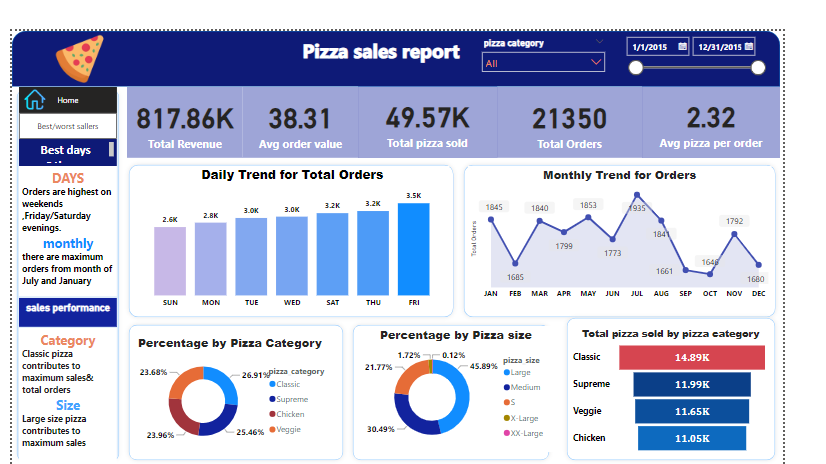

This screenshot's page, from the dashboard's own definition file:
{"tool":"powerbi","page":{"name":"Home","canvas":[1285,724],"ordinal":0},"visuals":[{"type":"card","fields":{"Values":["#measures.Avg order value"]},"box":[385,93.3,191.7,118.3],"z":0},{"type":"card","fields":{"Values":["#measures.Avg pizza per order"]},"box":[1050,91.4,230,120],"z":1000},{"type":"card","fields":{"Values":["#measures.Total Orders"]},"box":[808.3,93.3,241.7,118.3],"z":2000},{"type":"card","fields":{"Values":["#measures.Total pizzas sold"]},"box":[576.7,91.7,231.7,120],"z":3000},{"type":"card","fields":{"Values":["#measures.Total Revenue"]},"box":[191.7,93.3,193.3,118.3],"z":4000},{"type":"shape","box":[0,0,1280,92.5],"z":5000},{"type":"textbox","box":[465.7,5.7,308.6,62.9],"z":6000},{"type":"image","box":[32.9,0,158.6,92.9],"z":7000},{"type":"shape","box":[187.1,214.3,557.1,270],"z":8000},{"type":"columnChart","title":"Daily Trend for Total Orders","fields":{"Category":["pizza sales.order day"],"Y":["#measures.Total Orders"]},"box":[204.3,224.3,524.3,245.7],"z":9000},{"type":"shape","box":[744.3,214.3,535.7,270],"z":10000},{"type":"areaChart","title":"Monthly Trend for Orders","fields":{"Y":["#measures.Total Orders"],"Category":["pizza sales.order Month"]},"box":[760,224.3,505.7,231.4],"z":11000},{"type":"shape","box":[186.7,481.7,373.3,241.7],"z":12000},{"type":"shape","box":[560,481.7,343.3,241.7],"z":13000},{"type":"shape","box":[916.7,470,363.3,253.3],"z":14000},{"type":"donutChart","title":"Percentage by Pizza Category","fields":{"Category":["pizza sales.pizza_category"],"Y":["#measures.Total Revenue"]},"box":[205,505,336.7,196.7],"z":15000},{"type":"donutChart","title":"Percentage by Pizza size","fields":{"Y":["#measures.Total Revenue"],"Category":["pizza sales.pizza_size"]},"box":[576.7,491.7,326.7,210],"z":16000},{"type":"funnel","title":"Total pizza sold by pizza category","fields":{"Y":["#measures.Total pizza sold"],"Category":["pizza sales.pizza_category"]},"box":[930,491.7,335,216.7],"z":17000},{"type":"shape","box":[0,91.7,186.7,631.7],"z":18000},{"type":"textbox","box":[11.7,180,163.3,45],"z":19000},{"type":"textbox","box":[11.7,225,163.3,216.7],"z":19001},{"type":"textbox","box":[11.7,445,163.3,48.3],"z":19002},{"type":"textbox","box":[11.7,495,163.3,228.3],"z":19003},{"type":"slicer","fields":{"Values":["pizza sales.pizza_category"]},"box":[773.3,5,225,86.7],"z":19004},{"type":"slicer","fields":{"Values":["pizza sales.order_date"]},"box":[1011.7,0,253.3,91.7],"z":19005},{"type":"pageNavigator","box":[11.7,93.3,163.3,43.3],"z":19006},{"type":"pageNavigator","box":[11.7,136.7,163.3,43.3],"z":19007},{"type":"image","box":[11.7,91.7,53.3,45],"z":19008}]}

Visuals, with their boxes in screenshot pixels (x1, y1, x2, y2), scaled from the page's 1285x724 canvas onto the 826x464 screenshot:
card - #measures.Avg order value: crop(247, 60, 371, 136)
card - #measures.Avg pizza per order: crop(675, 59, 823, 135)
card - #measures.Total Orders: crop(520, 60, 675, 136)
card - #measures.Total pizzas sold: crop(371, 59, 520, 136)
card - #measures.Total Revenue: crop(123, 60, 247, 136)
shape: crop(0, 0, 823, 59)
textbox: crop(299, 4, 498, 44)
image: crop(21, 0, 123, 60)
shape: crop(120, 137, 478, 310)
"Daily Trend for Total Orders" columnChart: crop(131, 144, 468, 301)
shape: crop(478, 137, 823, 310)
"Monthly Trend for Orders" areaChart: crop(489, 144, 814, 292)
shape: crop(120, 309, 360, 463)
shape: crop(360, 309, 581, 463)
shape: crop(589, 301, 823, 463)
"Percentage by Pizza Category" donutChart: crop(132, 324, 348, 450)
"Percentage by Pizza size" donutChart: crop(371, 315, 581, 450)
"Total pizza sold by pizza category" funnel: crop(598, 315, 813, 454)
shape: crop(0, 59, 120, 463)
textbox: crop(8, 115, 112, 144)
textbox: crop(8, 144, 112, 283)
textbox: crop(8, 285, 112, 316)
textbox: crop(8, 317, 112, 463)
slicer - pizza sales.pizza_category: crop(497, 3, 642, 59)
slicer - pizza sales.order_date: crop(650, 0, 813, 59)
pageNavigator: crop(8, 60, 112, 88)
pageNavigator: crop(8, 88, 112, 115)
image: crop(8, 59, 42, 88)
